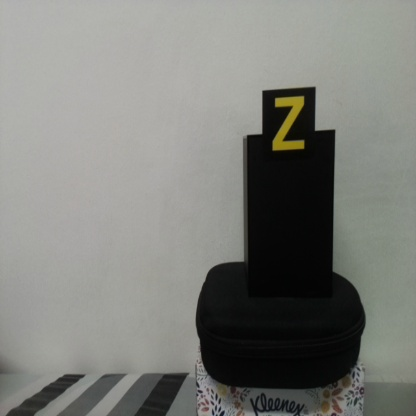id_15: (262, 91, 315, 160)
